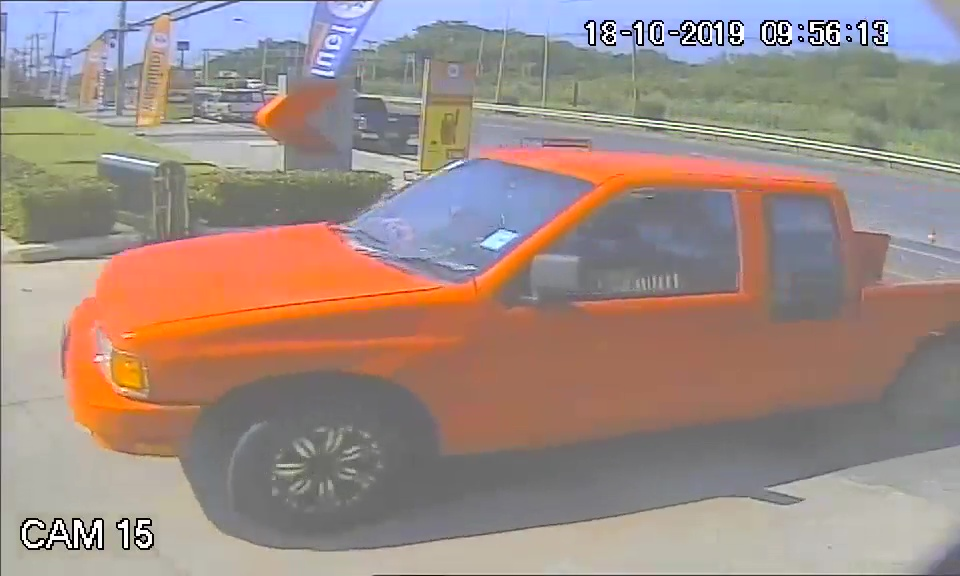pickup: (59, 143, 960, 518)
